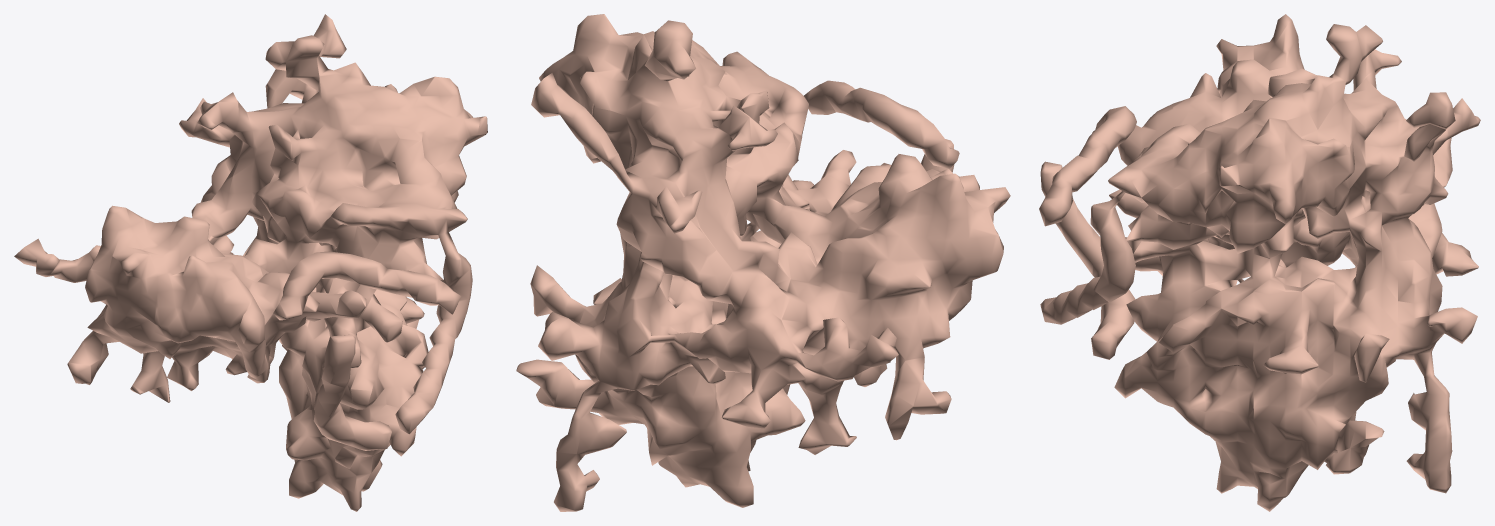
File: iSUTMr.dae
3 renders of one model, left to right at view 1: azimuth 30°, elevation 25°; view 2: azimuth 150°, elevation 25°; view 3: azimuth 270°, elevation 25°, orthographic. The views are drawn at different scales.
Parts seen in each view (by area): view 1: CoarseMS_HIV1_ENV_4ncoABEFIJ; view 2: CoarseMS_HIV1_ENV_4ncoABEFIJ; view 3: CoarseMS_HIV1_ENV_4ncoABEFIJ.
Part boxes in pixels (x1,y1,x2,y2): CoarseMS_HIV1_ENV_4ncoABEFIJ: (14, 14, 487, 511); CoarseMS_HIV1_ENV_4ncoABEFIJ: (516, 14, 1010, 511); CoarseMS_HIV1_ENV_4ncoABEFIJ: (1039, 14, 1480, 511).
Bounding box in the file's own units: 119 × 124 × 105.
